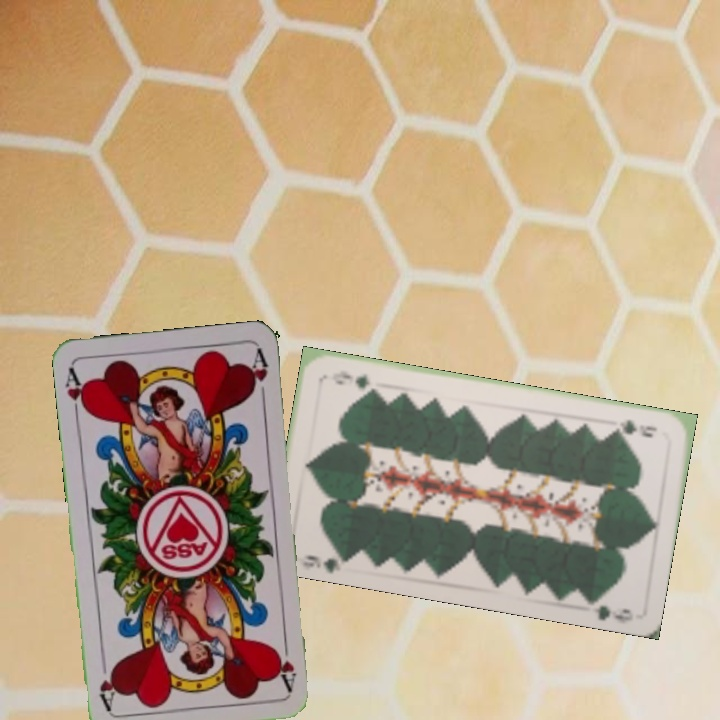G9: (298, 547, 351, 574), (608, 416, 660, 440)
HA: (61, 363, 91, 422), (273, 634, 299, 693)
